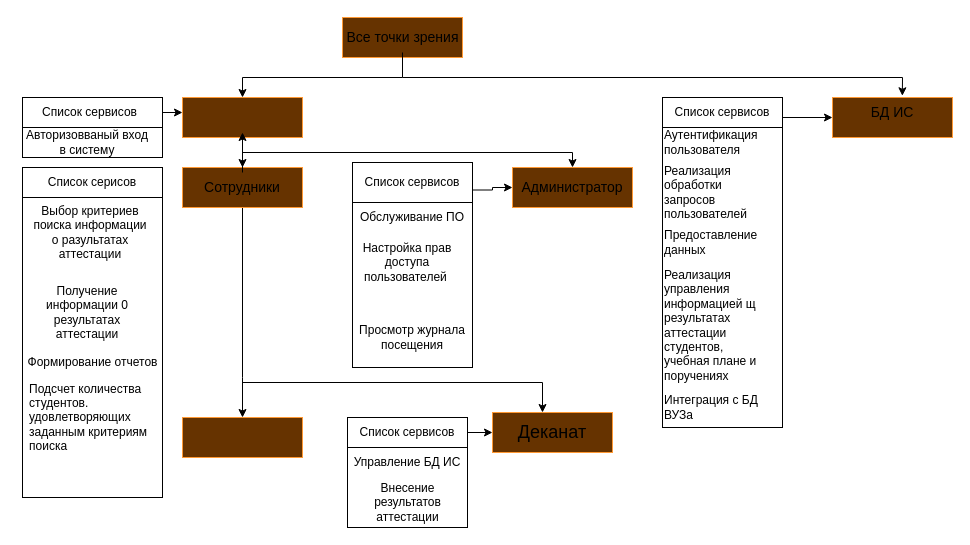
The diagram is 970 pixels wide and 545 high, and some of its shapes have lost their labels. The shapes that lost their labels are listed below. From the top down, each one's centre as x and y in pixels, then its label:
At [242,117]: "Пользователи".
At [242,437]: "Преподаватель".
